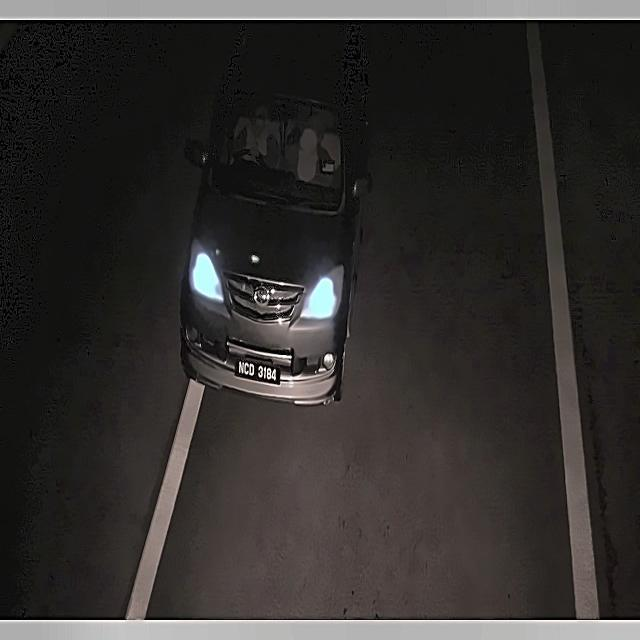car: (231, 356, 279, 387)
